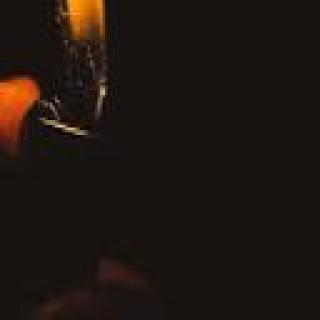fire: (42, 0, 105, 131)
